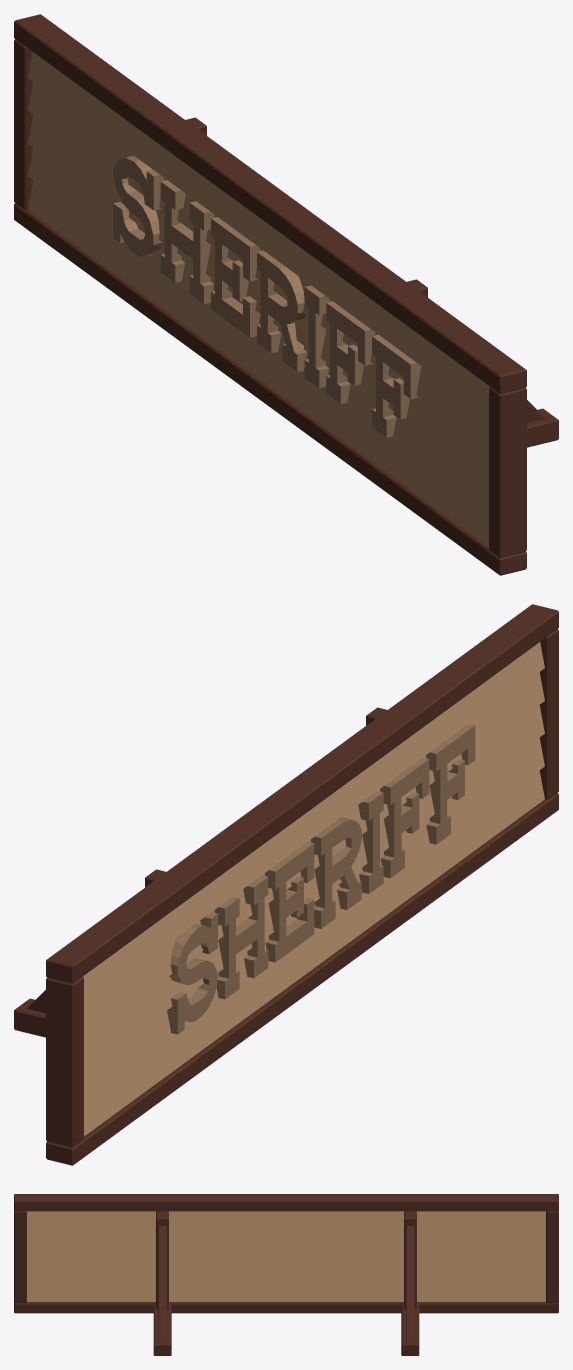
The model's file is Sheriff Sign A.glb.
3 views of the same model, one above another, from view 1: azimuth 30°, elevation 25°; view 2: azimuth 150°, elevation 25°; view 3: azimuth 270°, elevation 25° (orthographic). The views are drawn at different scales.
Visible parts, largest first — view 1: Sheriff Sign A; view 2: Sheriff Sign A; view 3: Sheriff Sign A.
Boxes of the visible parts, x1=… form: Sheriff Sign A: x1=14, y1=14, x2=558, y2=575; Sheriff Sign A: x1=14, y1=604, x2=558, y2=1165; Sheriff Sign A: x1=14, y1=1194, x2=558, y2=1355.
Size of the model in its own units: 146 by 150 by 660.
